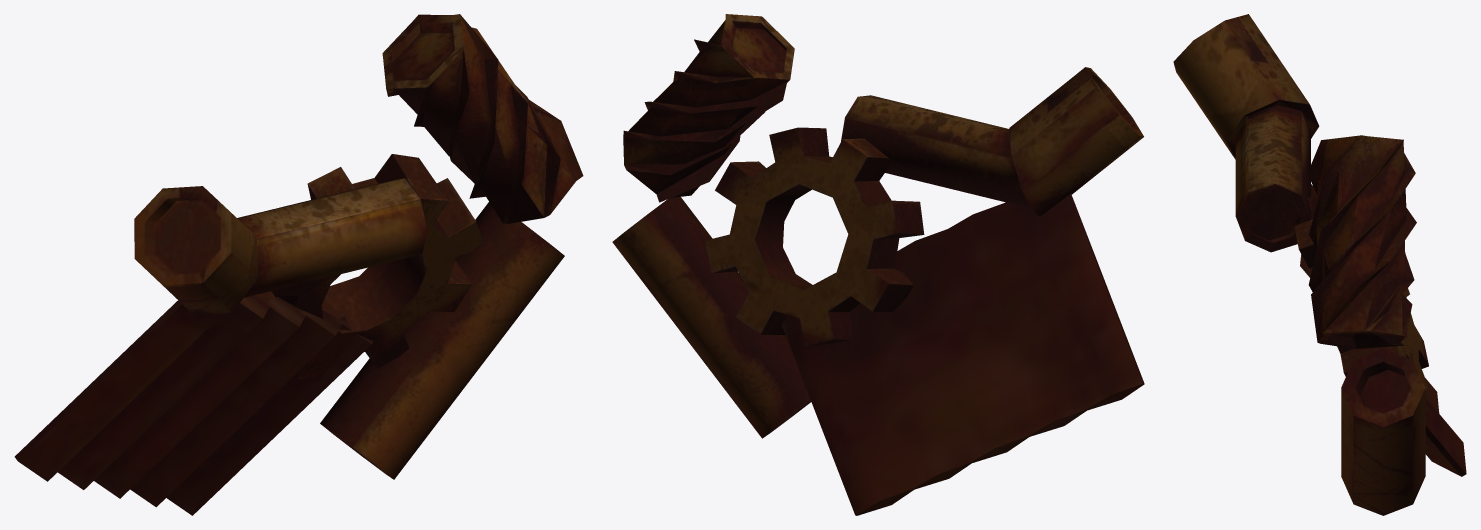
The model's file is scrap.fbx.
3 renders of one model, left to right at view 1: azimuth 30°, elevation 25°; view 2: azimuth 150°, elevation 25°; view 3: azimuth 270°, elevation 25°, orthographic. The views are drawn at different scales.
Visible parts, largest first — view 1: Worm Gear; view 2: Worm Gear; view 3: Worm Gear.
Boxes of the visible parts, <box> form: Worm Gear: <box>14,14,583,515</box>; Worm Gear: <box>612,14,1144,515</box>; Worm Gear: <box>1173,14,1466,515</box>.
Bounding box in the file's own units: 76.52 × 61.36 × 37.77.
1 material, 1 textured.
